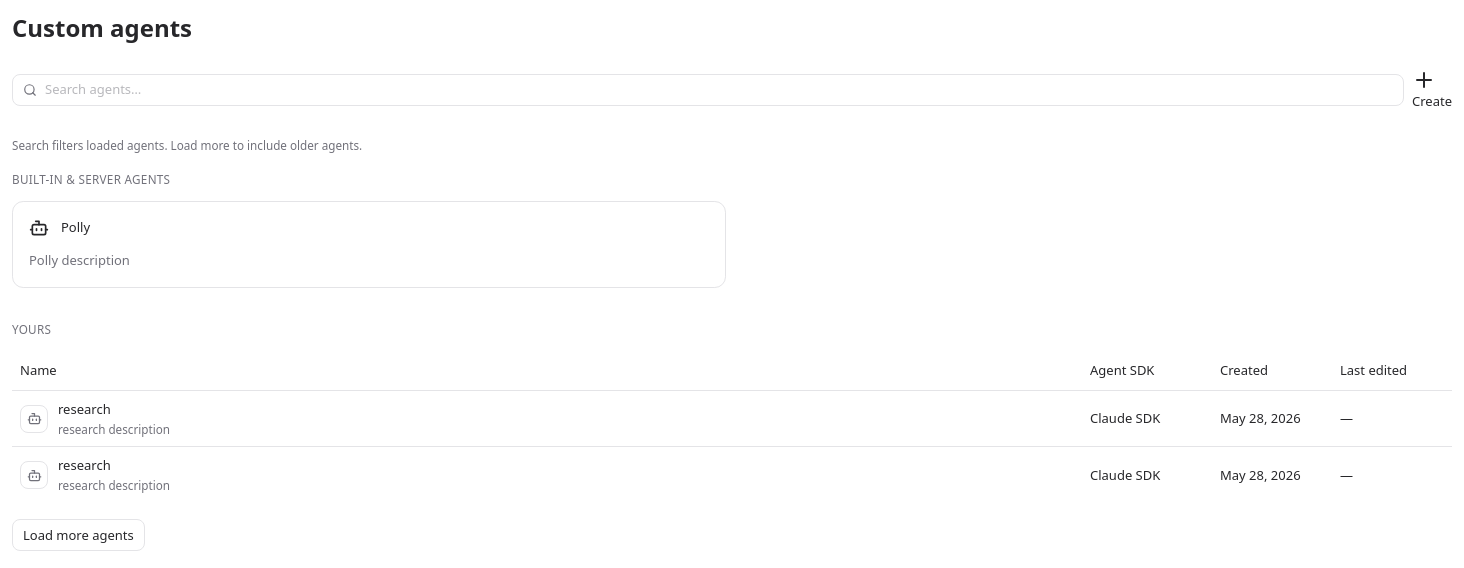
Custom agents settings › updates search results when the term or loaded pages change
Expected: the number of links "research research description" is 2, [20,400,170,437]; [20,456,170,493]
Type " RESEARCH " into the search field at coordinates (719, 90), box [45,79,1393,100]
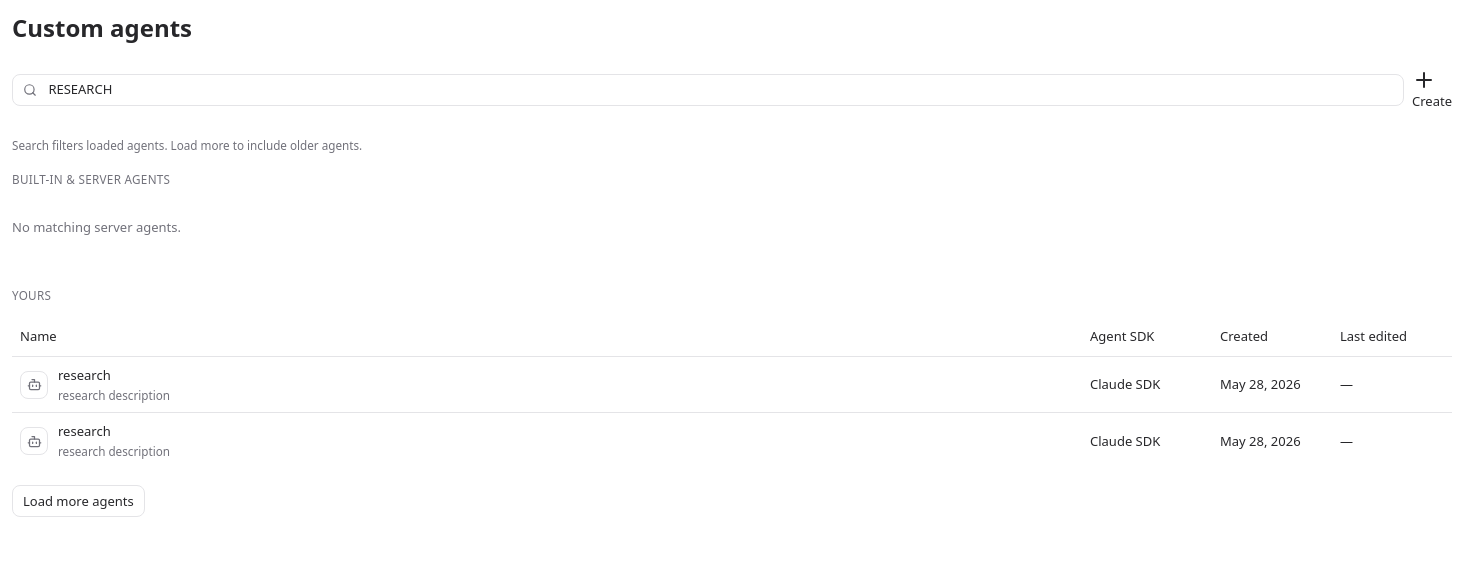
Expected: the link "Polly description" is gone
Expected: the number of links "research research description" is 2, [20,366,170,403]; [20,422,170,459]
Click the button "Load more agents" at coordinates (78, 501), box [12,485,145,517]
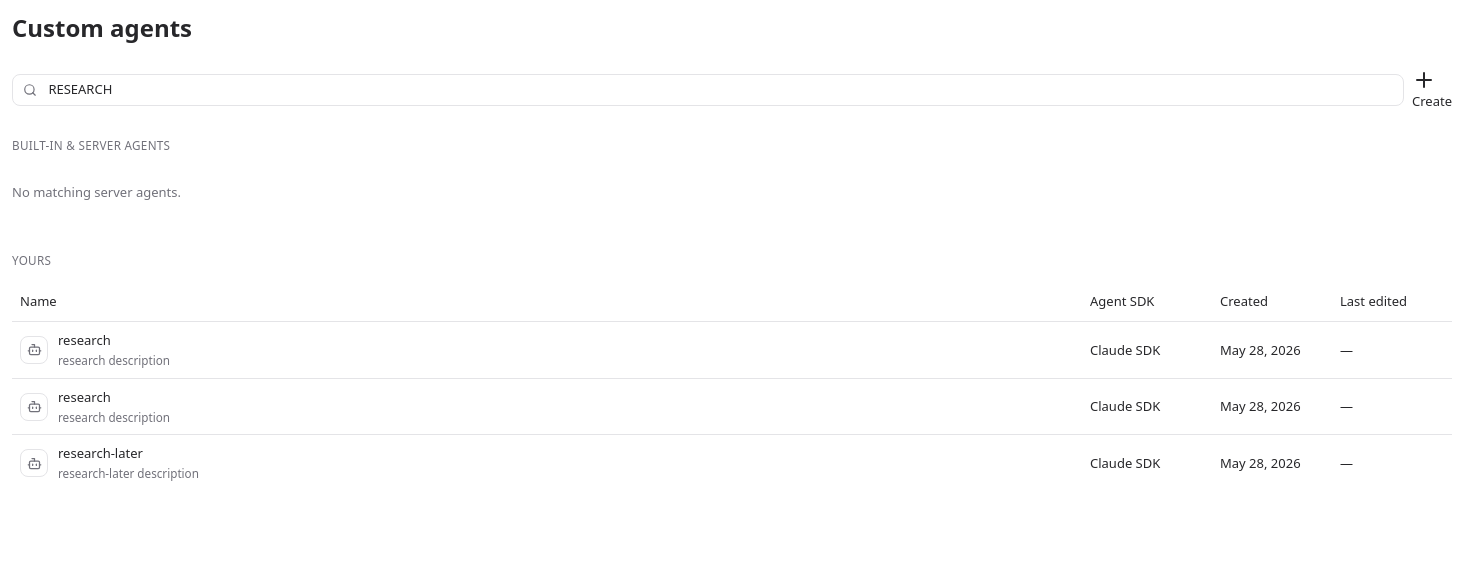
Expected: the link "research-later" is shown, [20,444,199,481]
Replace the text in the search field with "polly" at coordinates (719, 90), box [45,79,1393,100]
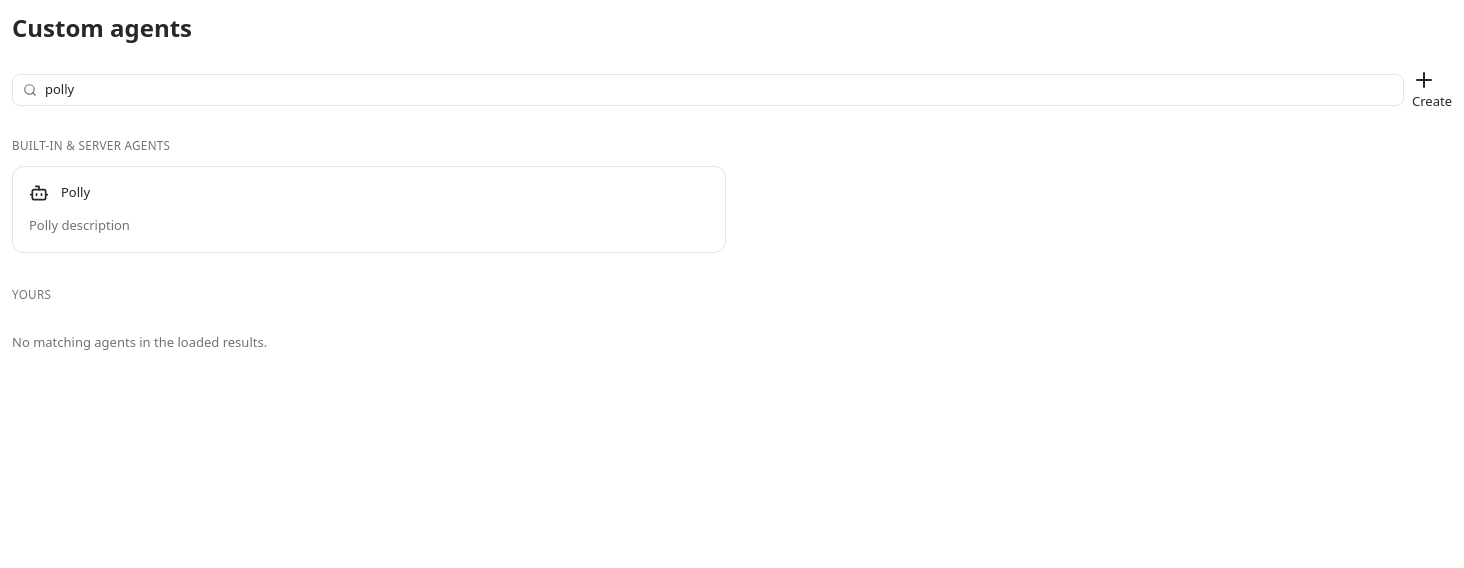
Expected: the link "Polly Polly description" is shown, [12,166,726,253]
Expected: the link "research-later" is gone
